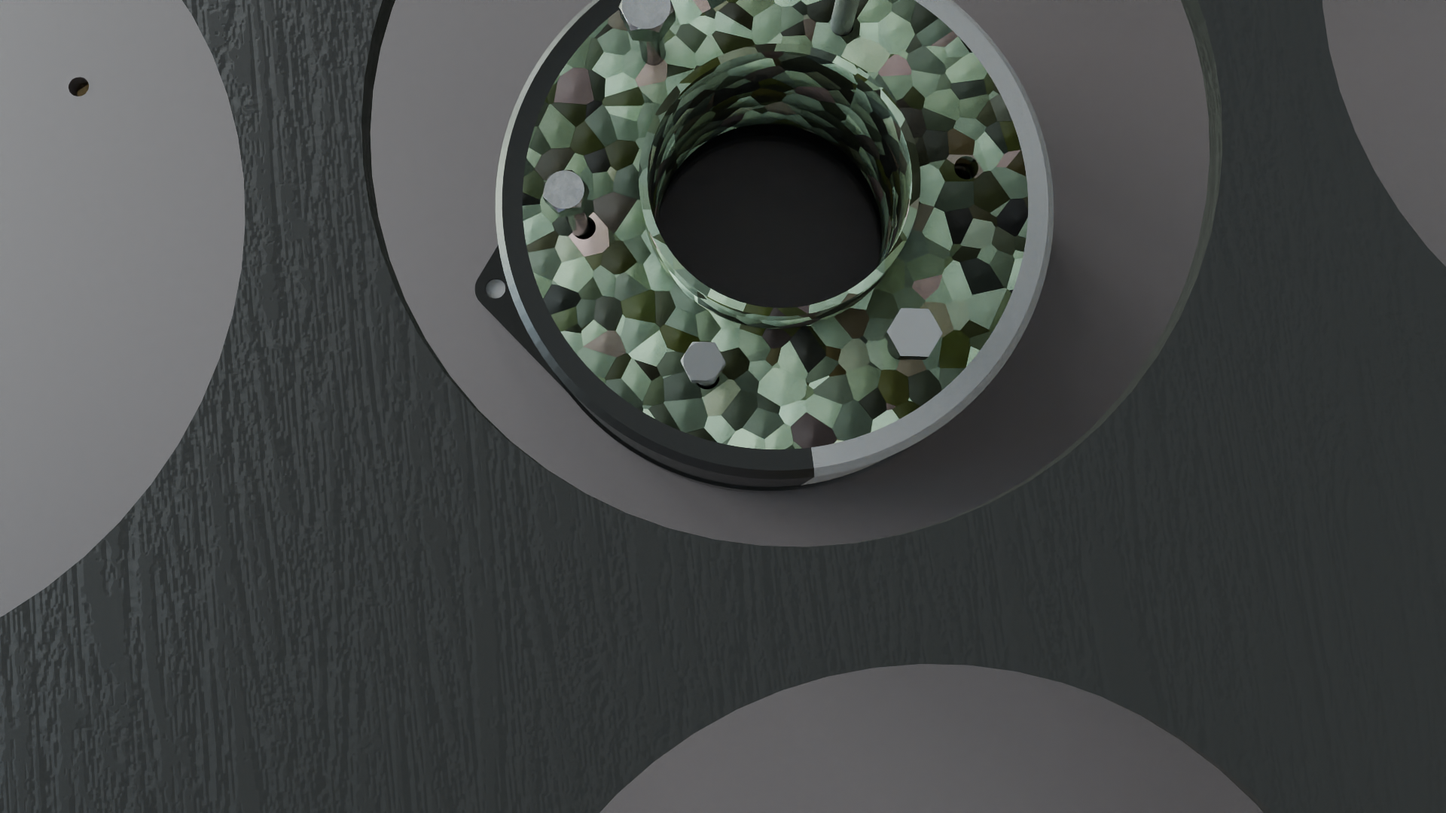bolt: (886, 308, 943, 357), (543, 170, 587, 212), (619, 0, 675, 32), (681, 342, 725, 382)
